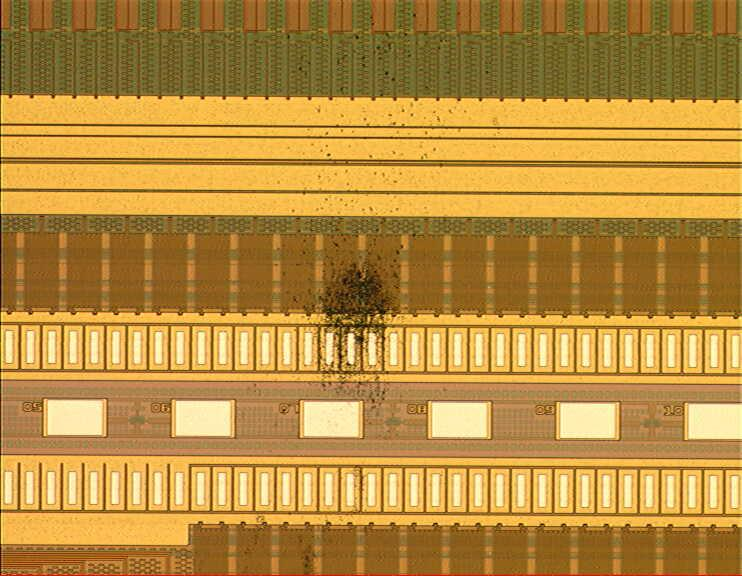PO CONTAMINATION: (234, 7, 496, 575)
